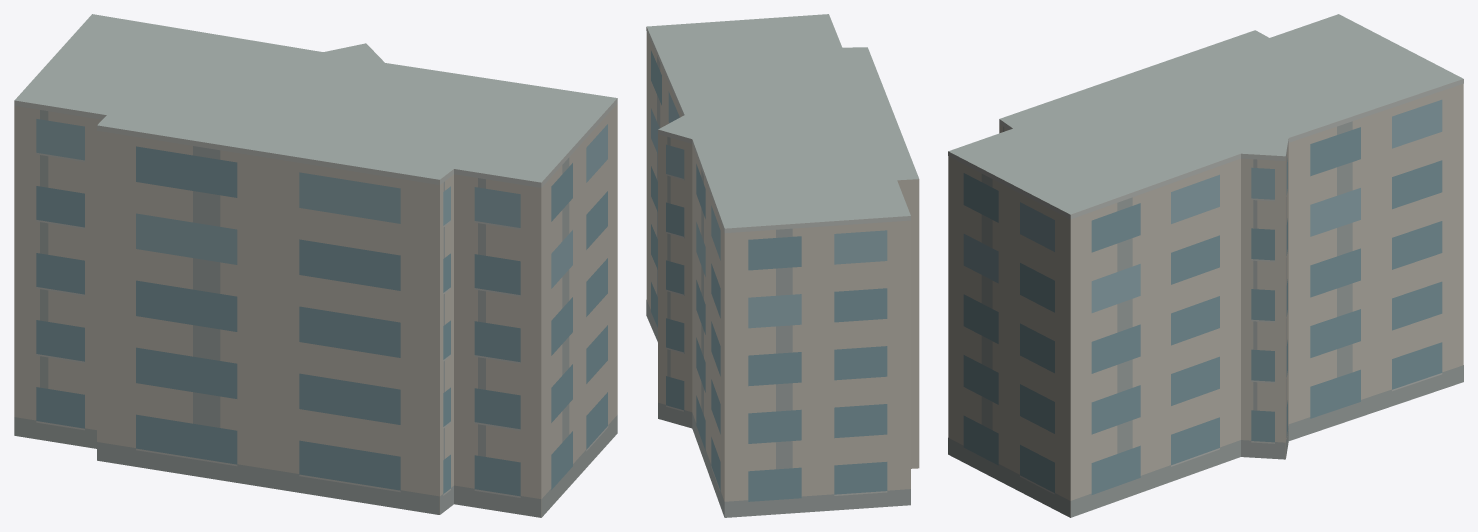
The model's file is survey-upis-32850897.glb.
3 renders of one model, left to right at view 1: azimuth 30°, elevation 25°; view 2: azimuth 150°, elevation 25°; view 3: azimuth 270°, elevation 25°, orthographic. The views are drawn at different scales.
Visible parts, largest first — view 1: survey-upis-32850897.tmp; view 2: survey-upis-32850897.tmp; view 3: survey-upis-32850897.tmp.
Part boxes in pixels (left/top/right/bottom): survey-upis-32850897.tmp: left=14, top=14, right=617, bottom=517; survey-upis-32850897.tmp: left=646, top=14, right=919, bottom=517; survey-upis-32850897.tmp: left=948, top=14, right=1463, bottom=517.
Size of the model in its own units: 21.65 by 15.25 by 23.51.
